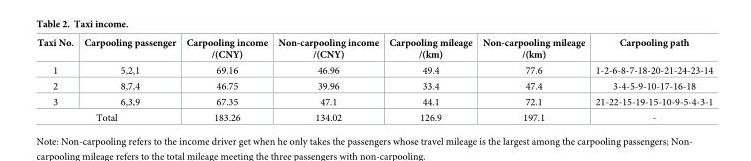table: (36, 37, 712, 122)
table column: (589, 37, 712, 122), (476, 37, 589, 122), (272, 37, 383, 122), (78, 37, 180, 122), (383, 37, 476, 122), (180, 37, 272, 122), (36, 37, 78, 122)
table column header: (36, 37, 712, 62)
table row: (36, 37, 712, 62), (36, 62, 712, 78), (36, 93, 712, 109), (36, 78, 712, 93), (36, 109, 712, 122)
table spanning cell: (36, 109, 180, 122)
